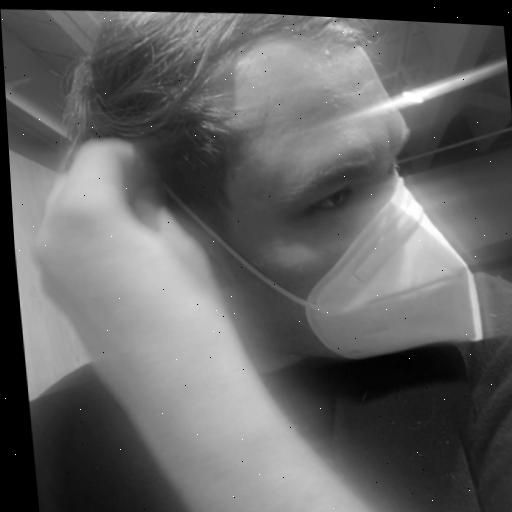mask: (87, 5, 512, 347)
